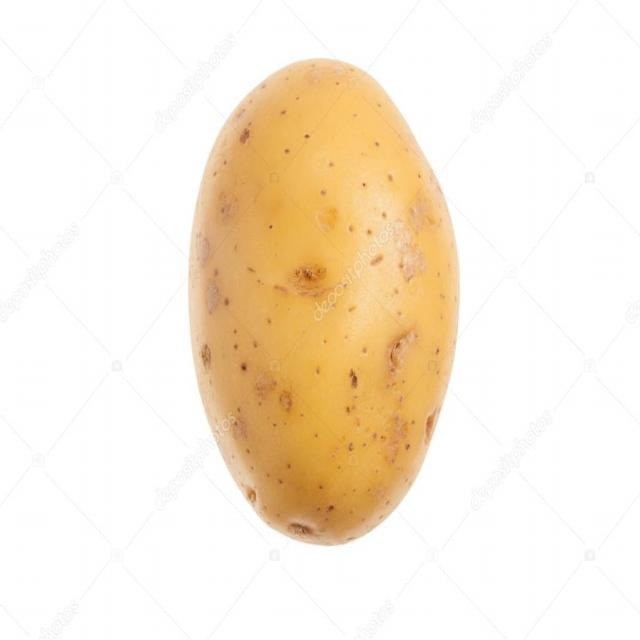potato: (187, 59, 460, 548)
